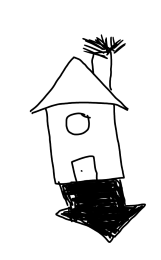door: (69, 152, 104, 183)
open_window: (62, 108, 92, 137)
roof: (27, 51, 128, 116)
shadow: (45, 176, 148, 244)
smoking_chimney: (74, 27, 133, 88)
wall: (43, 97, 125, 186)
